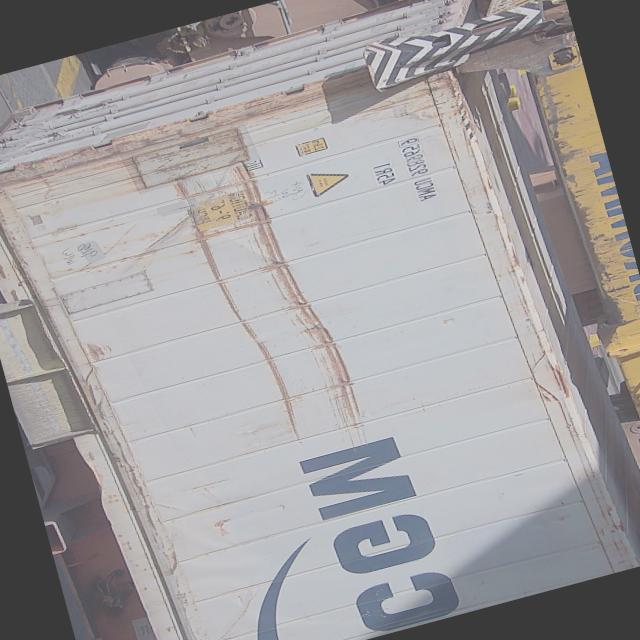rust: (161, 138, 387, 473), (1, 72, 342, 201)
